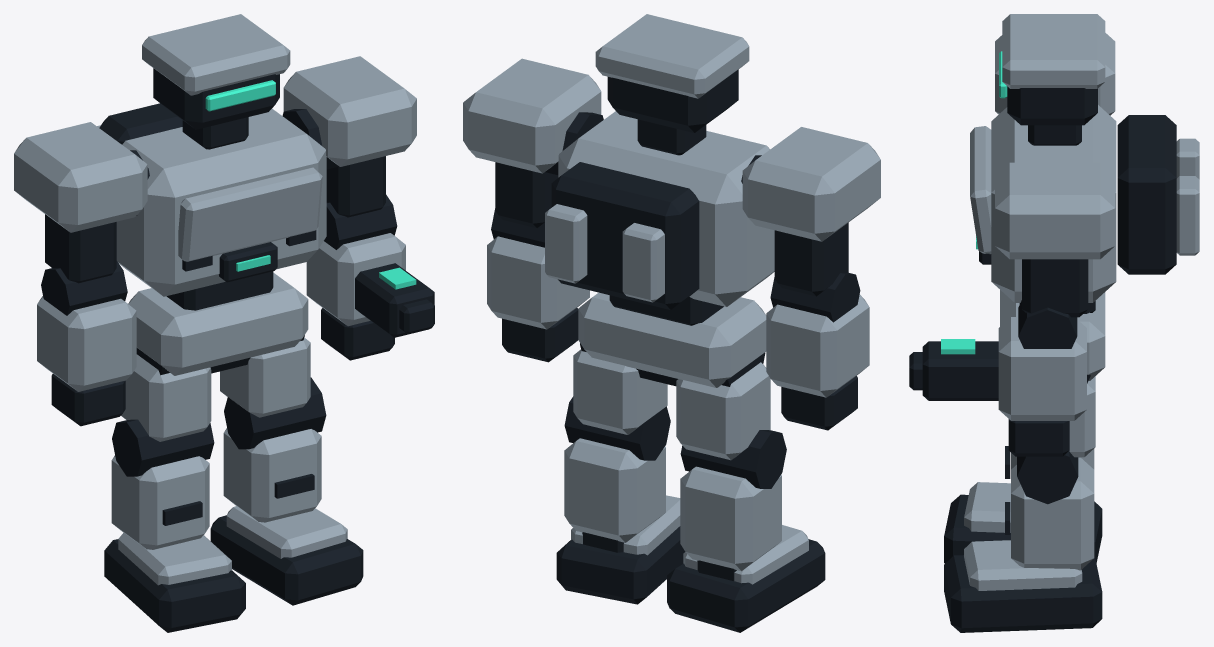
Rendered from MB_Worker01.obj.
3 views of the same model, side by side, from view 1: azimuth 30°, elevation 25°; view 2: azimuth 150°, elevation 25°; view 3: azimuth 270°, elevation 25° (orthographic). The views are drawn at different scales.
Parts seen in each view (by area): view 1: frame.standard.v1, arm.standard.left, arm.standard.right, weapon.carbine; view 2: frame.standard.v1, arm.standard.left, arm.standard.right; view 3: frame.standard.v1, arm.standard.right, weapon.carbine, arm.standard.left.
Boxes of the visible parts, x1=… form: frame.standard.v1: x1=97, y1=14, x2=363, y2=632; arm.standard.left: x1=14, y1=122, x2=149, y2=426; arm.standard.right: x1=282, y1=56, x2=416, y2=360; weapon.carbine: x1=355, y1=263, x2=434, y2=337; frame.standard.v1: x1=545, y1=14, x2=825, y2=632; arm.standard.left: x1=741, y1=127, x2=880, y2=430; arm.standard.right: x1=463, y1=58, x2=603, y2=362; frame.standard.v1: x1=944, y1=14, x2=1199, y2=632; arm.standard.right: x1=995, y1=162, x2=1115, y2=456; weapon.carbine: x1=909, y1=339, x2=998, y2=400; arm.standard.left: x1=995, y1=33, x2=1115, y2=115.
Size of the model in its own units: 1.73 by 2.47 by 1.19.
